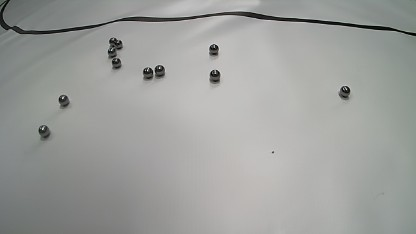ironball: (38, 125, 50, 138), (209, 69, 220, 83), (58, 94, 70, 106), (154, 65, 165, 77), (143, 67, 153, 79), (340, 85, 350, 97), (111, 57, 121, 68), (209, 44, 219, 55), (107, 47, 117, 57), (114, 39, 123, 49), (109, 37, 117, 46)
